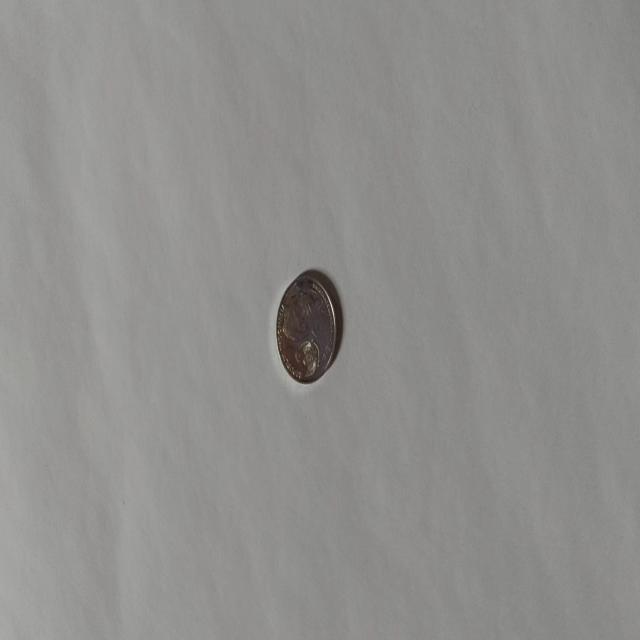dua ratus rupiah: (274, 270, 338, 384)
